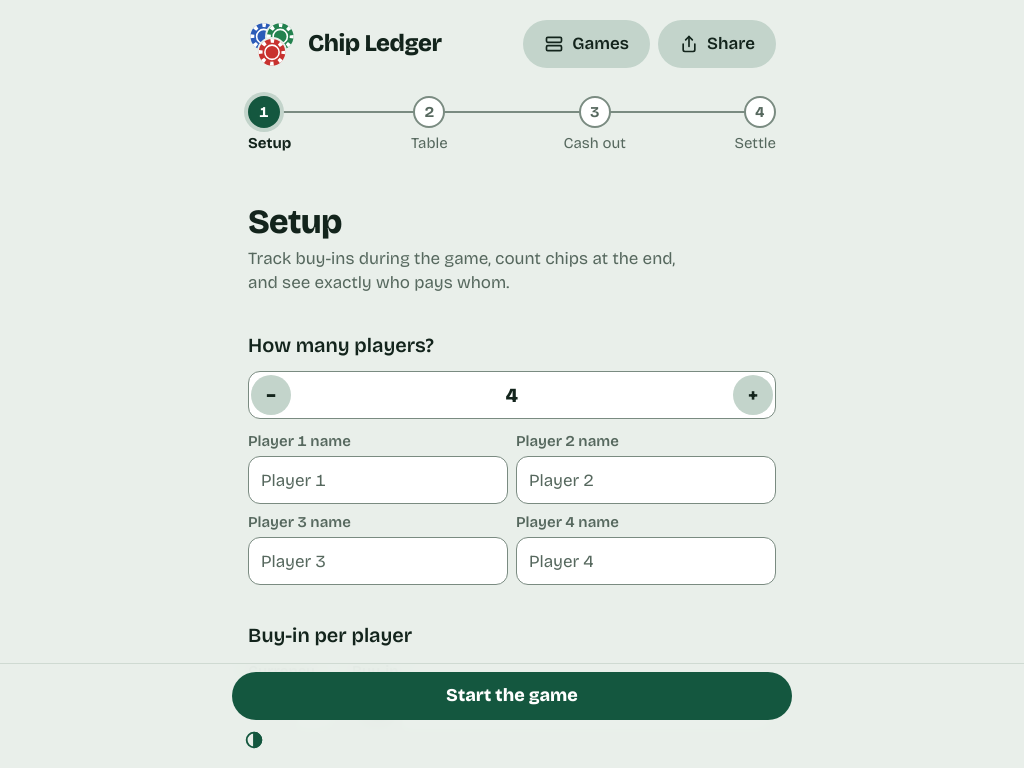
Test case: ChipLedgerApp: Share (SPEC-0003 REQ-0003-01, -02, -27) › offers Share on every step when it is, and sends nothing until the host asks
Check: the button "Share" is shown, box x1=658 y1=20 x2=776 y2=68
Click the button "Start the game".
click(512, 696)  # box x1=232 y1=672 x2=792 y2=720
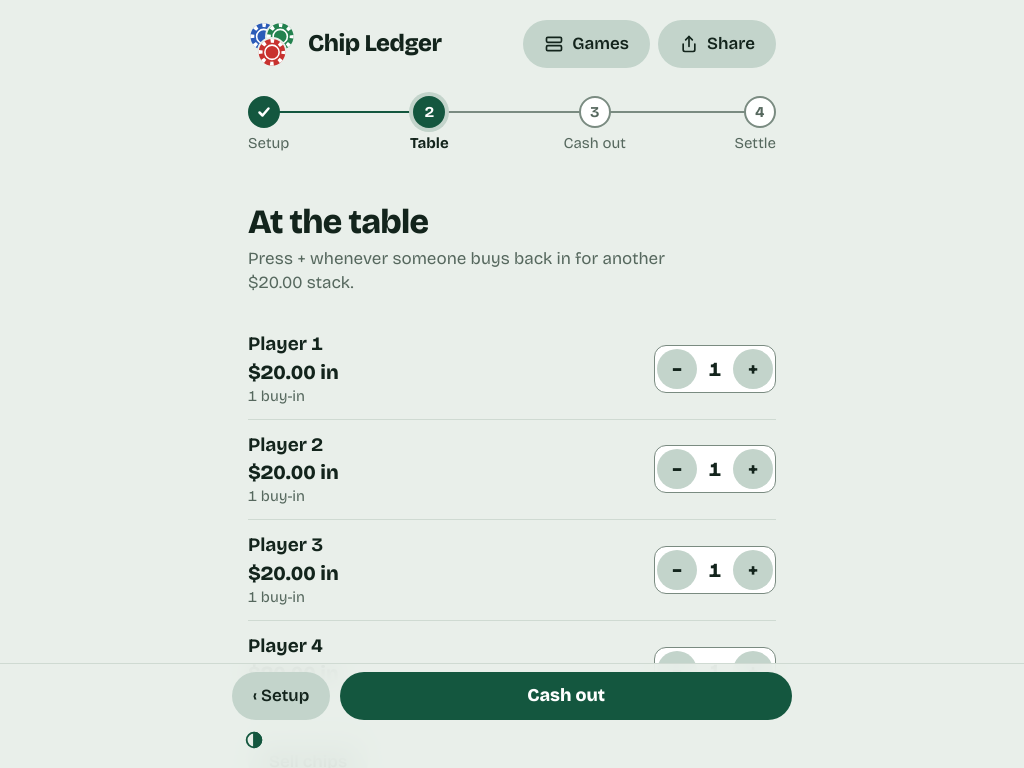
Click the button "Share".
click(717, 44)  # box x1=658 y1=20 x2=776 y2=68
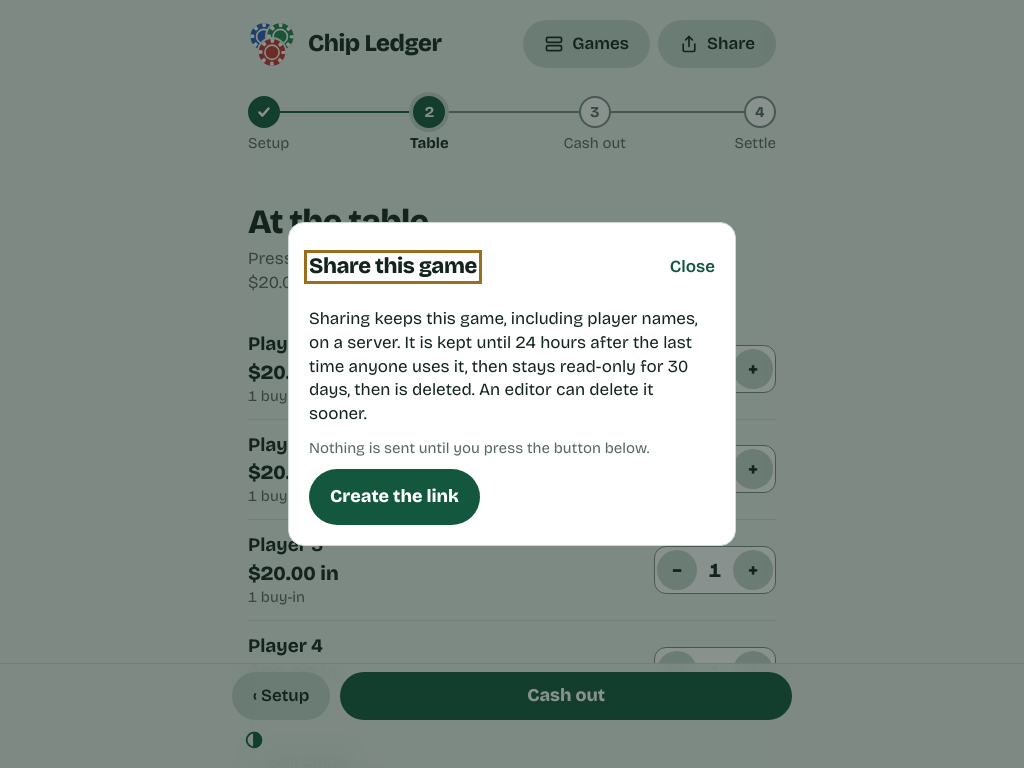
Check: the dialog "Share this game" is shown, box x1=288 y1=222 x2=736 y2=546
Check: the text "24 hours" is shown, box x1=309 y1=308 x2=698 y2=424
